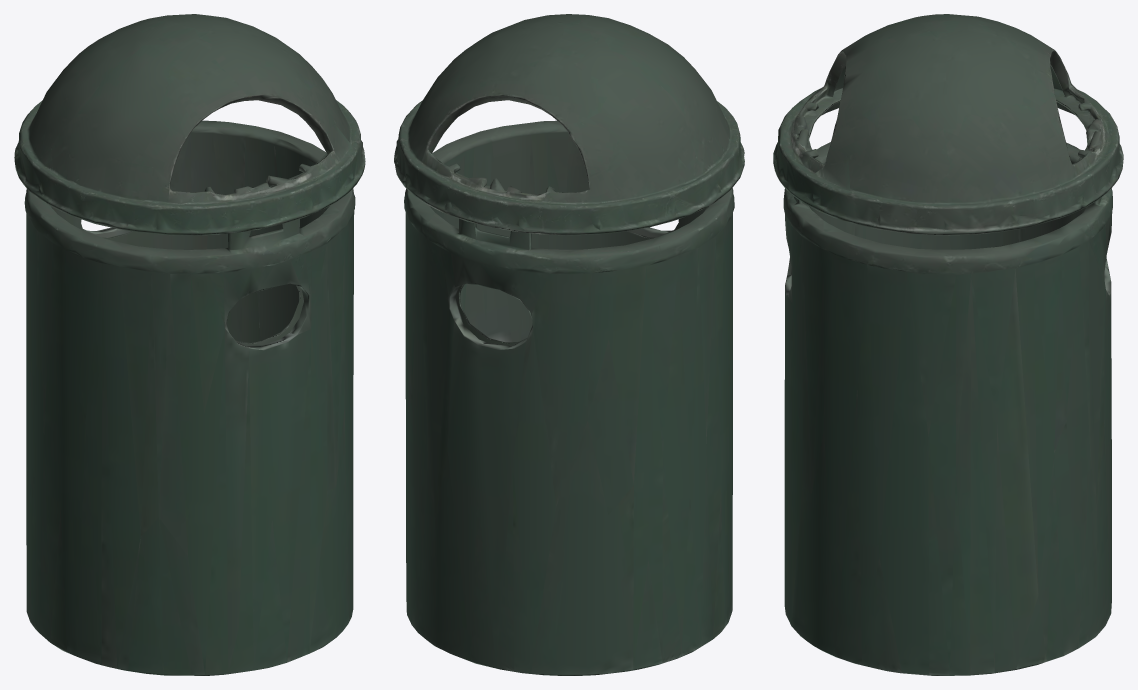
File: bin.glb
3 views of the same model, side by side, from view 1: azimuth 30°, elevation 25°; view 2: azimuth 150°, elevation 25°; view 3: azimuth 270°, elevation 25° (orthographic).
Size of the model in its own units: 1.04 by 1.9 by 1.04.
1 material, 1 textured.
